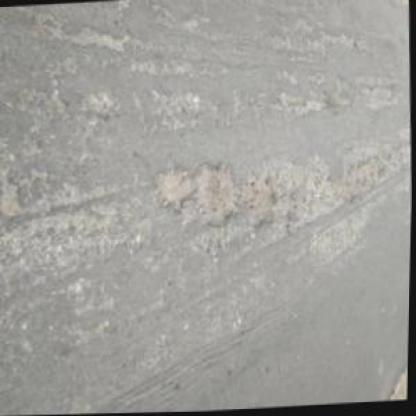pothole: (194, 159, 244, 233), (319, 157, 385, 209), (242, 165, 277, 233), (68, 22, 132, 58), (150, 166, 197, 215), (0, 176, 26, 222), (83, 87, 118, 121)
